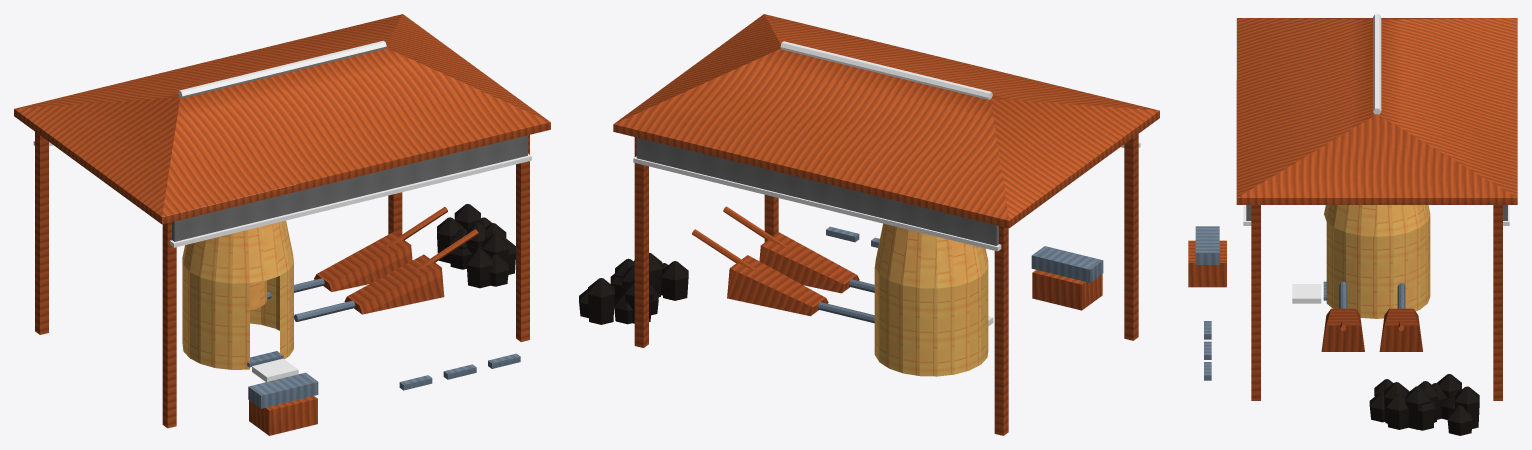
Rendered from iron_foundry-a3f9e08a.glb.
3 renders of one model, left to right at view 1: azimuth 30°, elevation 25°; view 2: azimuth 150°, elevation 25°; view 3: azimuth 270°, elevation 25°, orthographic. The views are drawn at different scales.
Parts seen in each view (by area): view 1: LOD0; view 2: LOD0; view 3: LOD0.
Boxes of the visible parts, x1=… form: LOD0: x1=14, y1=14, x2=550, y2=435; LOD0: x1=579, y1=14, x2=1159, y2=435; LOD0: x1=1188, y1=14, x2=1517, y2=435.
Size of what is drawn, in the model's own units: 1.02 by 0.5824 by 0.68.
Materials: 2 (2 with a texture image).
